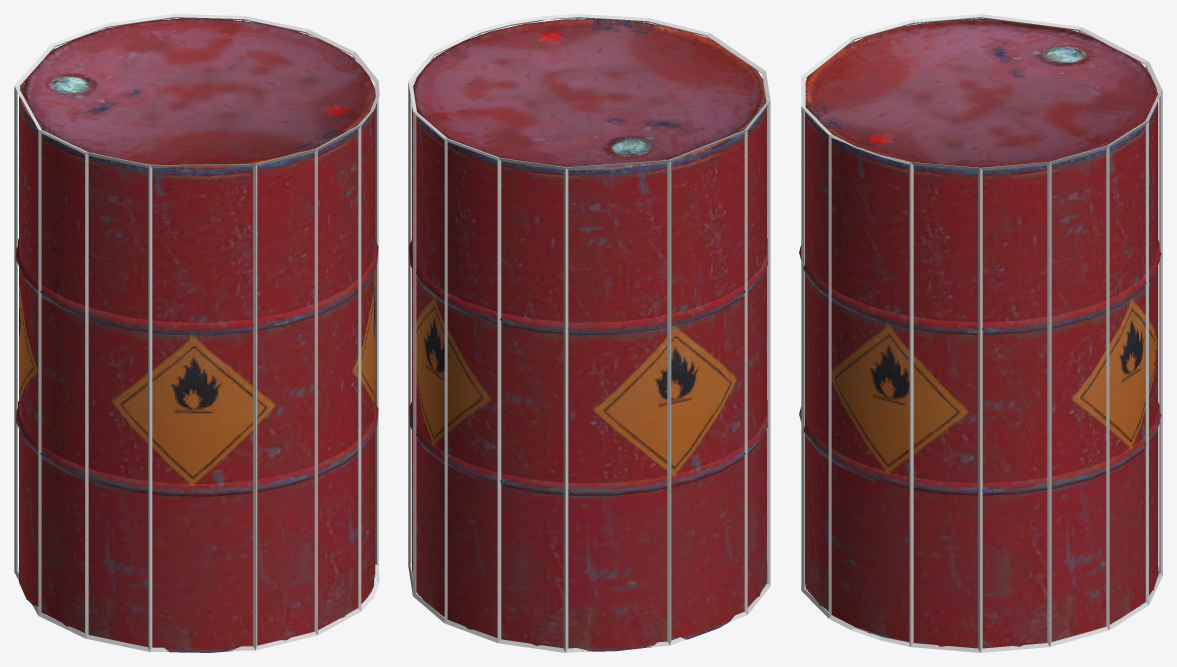
File: barrel_explosive_red.fbx
3 renders of one model, left to right at view 1: azimuth 30°, elevation 25°; view 2: azimuth 150°, elevation 25°; view 3: azimuth 270°, elevation 25°, orthographic.
Visible parts, largest first — view 1: Main_mesh, px_Main_mesh; view 2: Main_mesh, px_Main_mesh; view 3: Main_mesh, px_Main_mesh.
Part boxes in pixels (x1=…): Main_mesh: x1=15, y1=18, x2=378, y2=652; px_Main_mesh: x1=14, y1=14, x2=379, y2=651; Main_mesh: x1=408, y1=19, x2=768, y2=651; px_Main_mesh: x1=408, y1=14, x2=770, y2=652; Main_mesh: x1=799, y1=18, x2=1161, y2=648; px_Main_mesh: x1=801, y1=14, x2=1162, y2=652.
Bounding box in the file's own units: 0.7719 × 1.13 × 0.7694.
Materials: 1 (1 with a texture image).
